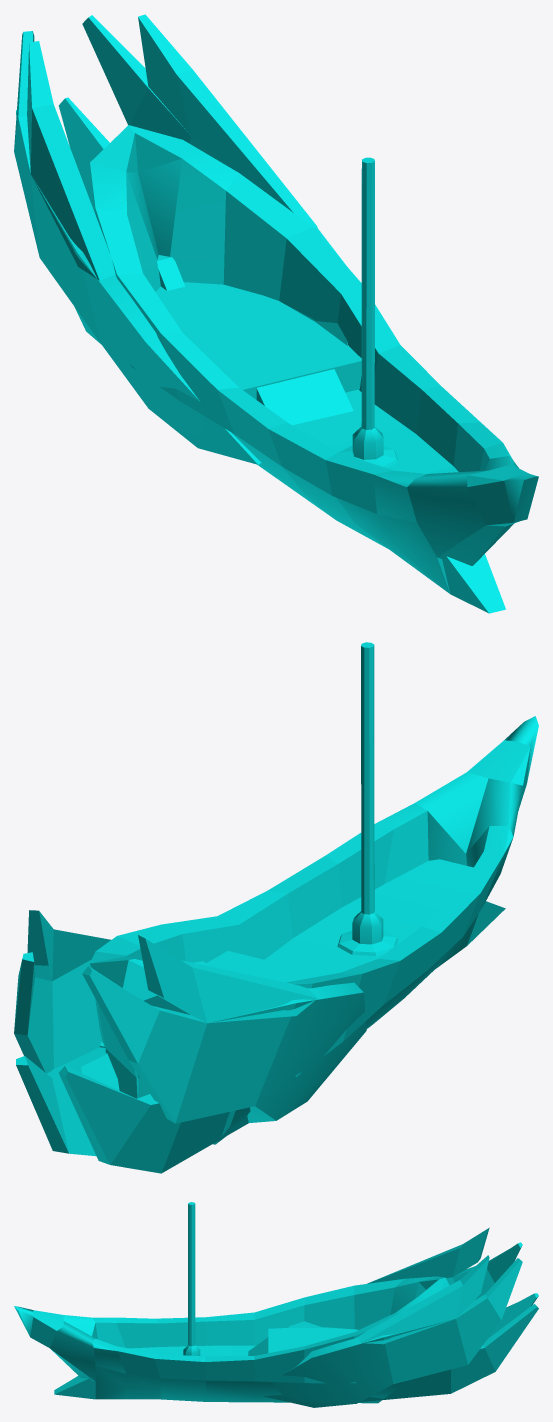
The model's file is Boat_Body_Collision.fbx.
3 views of the same model, one above another, from view 1: azimuth 30°, elevation 25°; view 2: azimuth 150°, elevation 25°; view 3: azimuth 270°, elevation 25° (orthographic). The views are drawn at different scales.
Parts seen in each view (by area): view 1: Boat_Body_Collision; view 2: Boat_Body_Collision; view 3: Boat_Body_Collision.
Boxes of the visible parts, x1=… form: Boat_Body_Collision: x1=14, y1=14, x2=538, y2=613; Boat_Body_Collision: x1=14, y1=642, x2=538, y2=1173; Boat_Body_Collision: x1=14, y1=1202, x2=538, y2=1407.
Size of the model in its own units: 525 by 840 by 2057.
